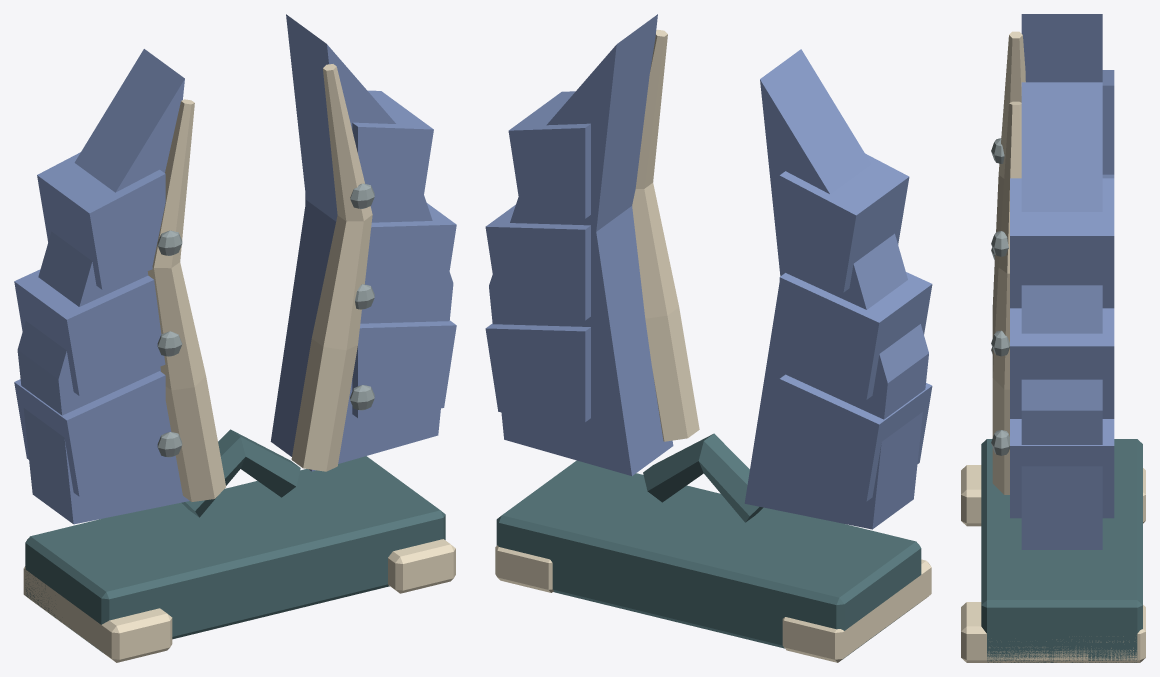
The model's file is marker_armor.glb.
3 views of the same model, side by side, from view 1: azimuth 30°, elevation 25°; view 2: azimuth 150°, elevation 25°; view 3: azimuth 270°, elevation 25° (orthographic). The views are drawn at different scales.
Visible parts, largest first — view 1: marker_armor_cobalt, marker_armor_iron, marker_armor_bone, marker_armor_steel; view 2: marker_armor_cobalt, marker_armor_iron, marker_armor_bone; view 3: marker_armor_cobalt, marker_armor_iron, marker_armor_bone, marker_armor_steel.
Part boxes in pixels (bbox=[...]): marker_armor_cobalt: bbox=[14, 14, 456, 524]; marker_armor_iron: bbox=[25, 429, 445, 652]; marker_armor_bone: bbox=[23, 64, 455, 662]; marker_armor_steel: bbox=[157, 183, 374, 457]; marker_armor_cobalt: bbox=[485, 14, 932, 529]; marker_armor_iron: bbox=[496, 433, 921, 659]; marker_armor_bone: bbox=[495, 29, 931, 662]; marker_armor_cobalt: bbox=[1010, 14, 1114, 549]; marker_armor_iron: bbox=[981, 439, 1142, 662]; marker_armor_bone: bbox=[961, 31, 1145, 662]; marker_armor_steel: bbox=[991, 138, 1009, 455].
Size of the model in its own units: 0.78 by 1.02 by 0.32.
